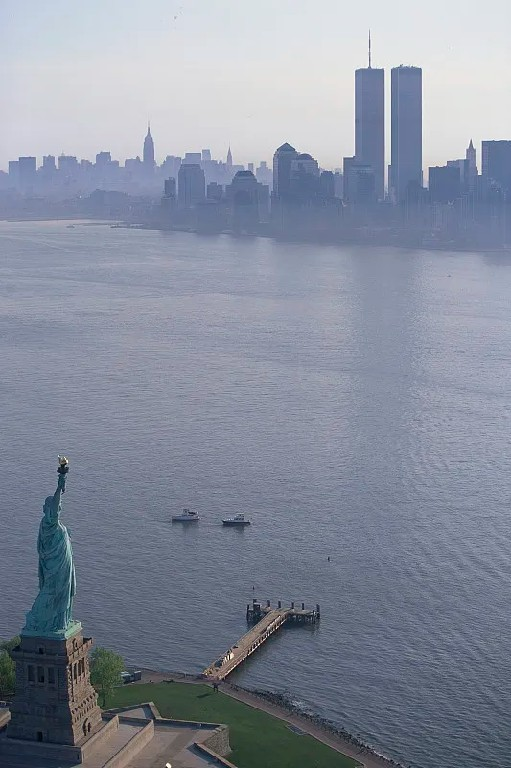SL: (1, 453, 119, 762)
